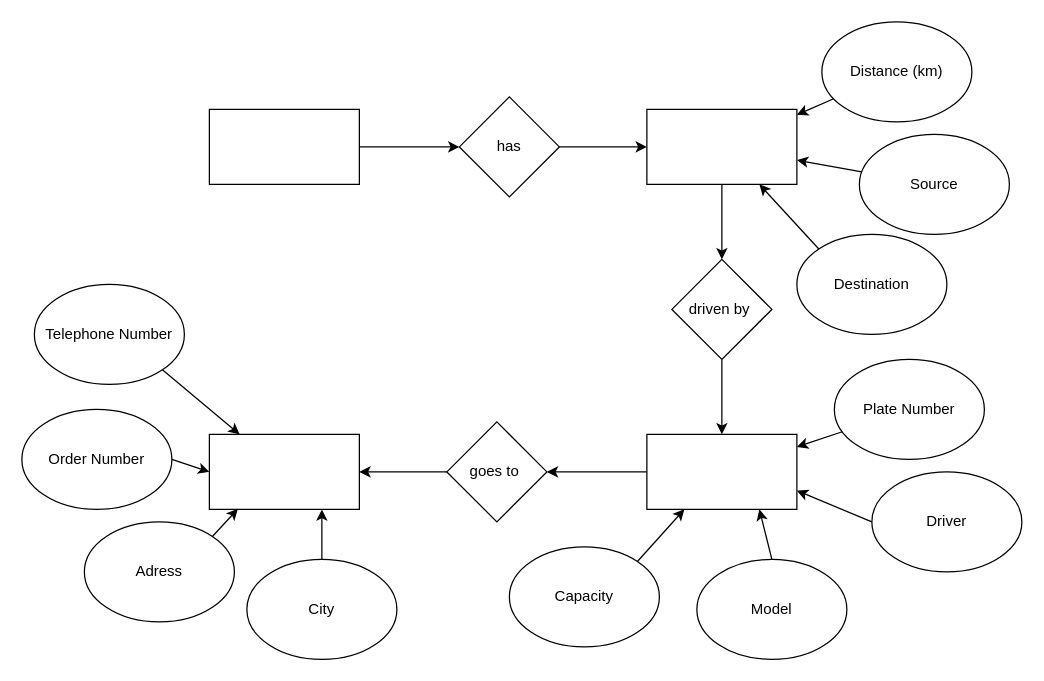
The diagram is 1044 pixels wide and 681 high, and some of its shapes have lost their labels. The shapes that lost their labels are listed below. From the top down, each one's centre as x and y in pixels, then its label:
(283,146): Transport Company
(721,146): Route
(283,471): Bus stop
(721,471): Bus
